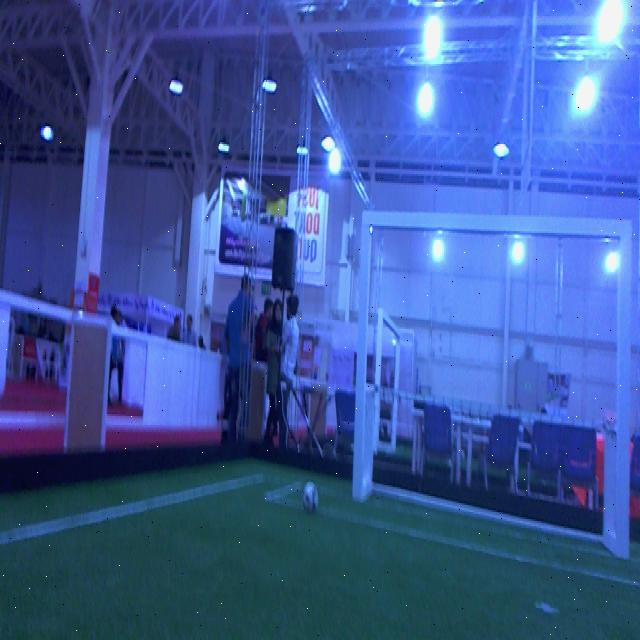ball: (304, 484, 321, 512)
goalpost: (352, 210, 371, 498), (616, 222, 632, 562)
